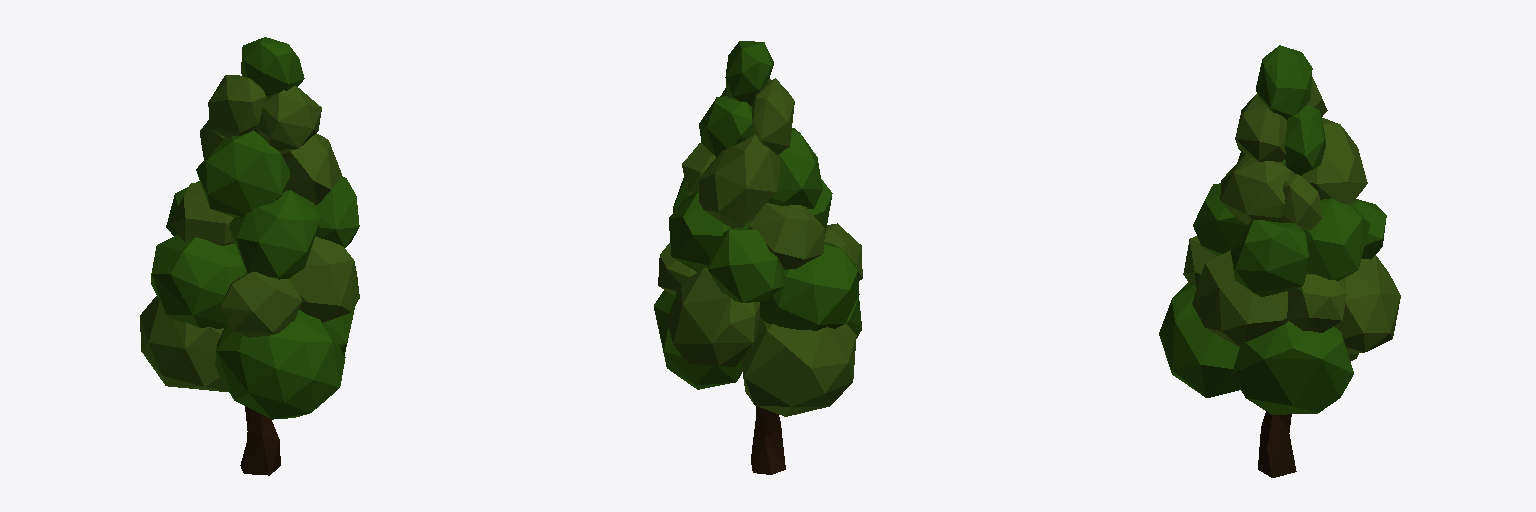
File: LowPolyPoplar.obj
3 renders of one model, left to right at view 1: azimuth 30°, elevation 25°; view 2: azimuth 150°, elevation 25°; view 3: azimuth 270°, elevation 25°, orthographic.
Parts seen in each view (by area): view 1: Poplar_Cylinder.003; view 2: Poplar_Cylinder.003; view 3: Poplar_Cylinder.003.
Boxes of the visible parts, <box> form: Poplar_Cylinder.003: <box>140,37,359,475</box>; Poplar_Cylinder.003: <box>654,41,862,474</box>; Poplar_Cylinder.003: <box>1159,45,1400,477</box>.
Size of the model in its own units: 2.68 by 5.81 by 3.